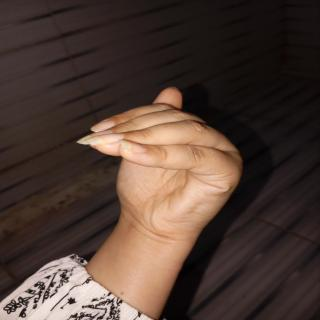KHAA: (58, 70, 256, 251)
